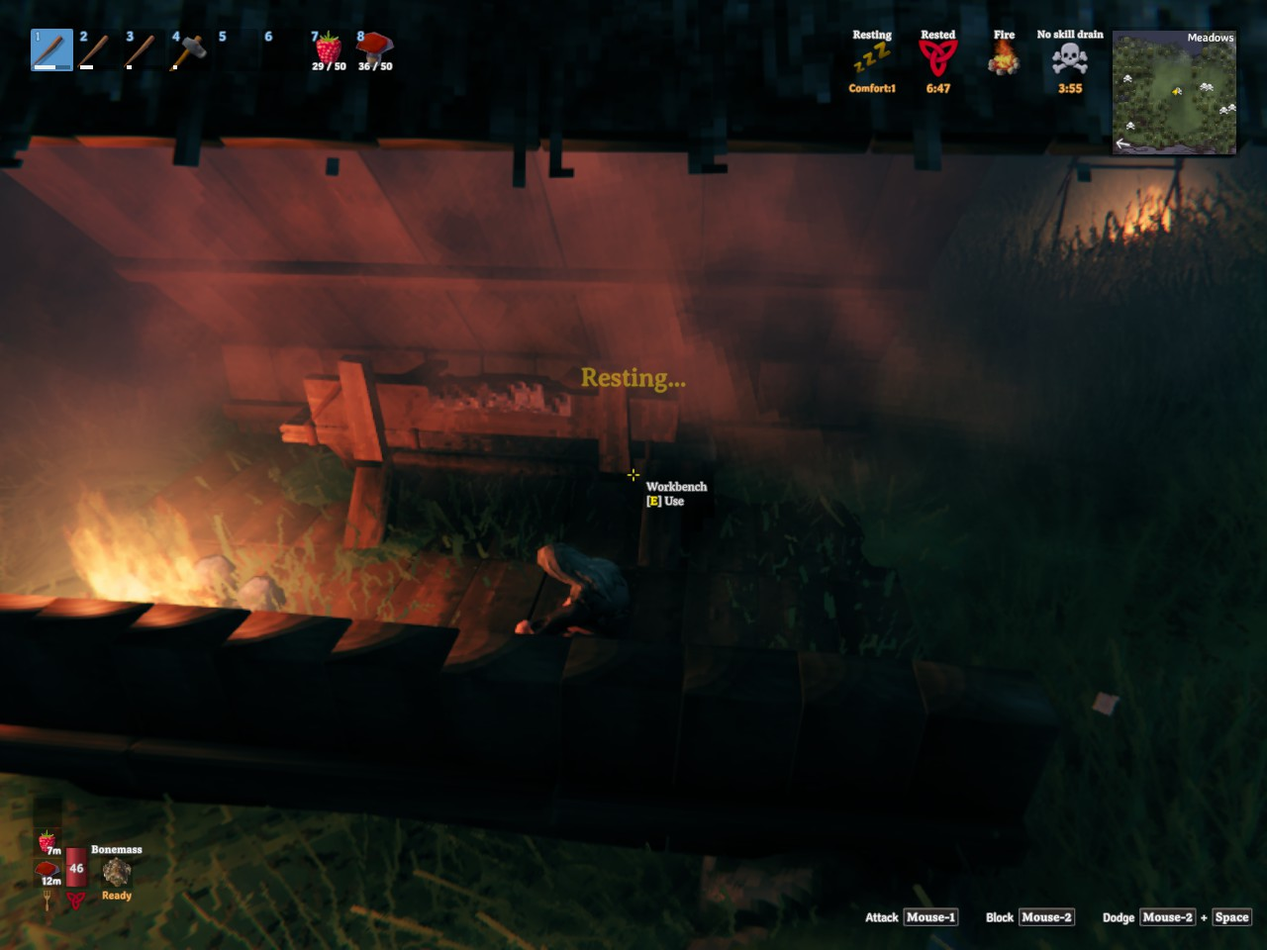Status Indicator: (838, 21, 1110, 113)
